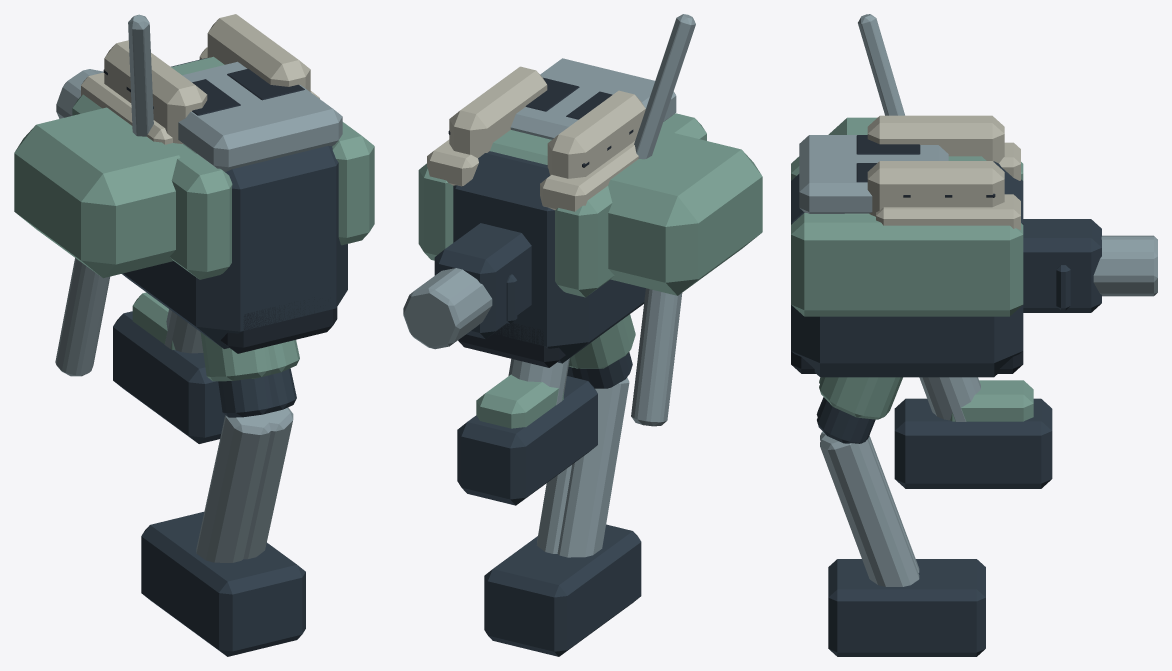
Rendered from skirmisher.glb.
The picture shows the model from 3 angles, left to right: view 1: azimuth 30°, elevation 25°; view 2: azimuth 150°, elevation 25°; view 3: azimuth 270°, elevation 25°; orthographic projection. The views are drawn at different scales.
Visible parts, largest first — view 1: L0_Chassis, L2_Hip0, L0_Turret, L0_Shin0, L2_Hip1, L0_Hip0, L0_Hip1, L0_Weapon; view 2: L0_Chassis, L2_Hip0, L0_Shin0, L0_Turret, L0_Weapon, L2_Hip1, L0_Hip0; view 3: L0_Chassis, L2_Hip1, L0_Shin0, L0_Turret, L0_Weapon, L0_Hip1, L2_Hip0.
Part boxes in pixels (x1=…): L0_Chassis: x1=14, y1=47, x2=374, y2=376; L2_Hip0: x1=141, y1=412, x2=286, y2=656; L0_Turret: x1=104, y1=14, x2=310, y2=143; L0_Shin0: x1=113, y1=292, x2=225, y2=443; L2_Hip1: x1=165, y1=407, x2=305, y2=652; L0_Hip0: x1=200, y1=332, x2=272, y2=417; L0_Hip1: x1=251, y1=340, x2=299, y2=412; L0_Weapon: x1=56, y1=69, x2=103, y2=118; L0_Chassis: x1=418, y1=58, x2=762, y2=426; L2_Hip0: x1=502, y1=377, x2=641, y2=656; L0_Shin0: x1=457, y1=358, x2=597, y2=505; L0_Turret: x1=449, y1=14, x2=695, y2=178; L0_Weapon: x1=403, y1=223, x2=531, y2=349; L2_Hip1: x1=484, y1=465, x2=571, y2=653; L0_Hip0: x1=570, y1=314, x2=635, y2=388; L0_Chassis: x1=791, y1=117, x2=1070, y2=377; L2_Hip1: x1=820, y1=435, x2=985, y2=656; L0_Shin0: x1=894, y1=377, x2=1052, y2=488; L0_Turret: x1=856, y1=14, x2=1004, y2=216; L0_Weapon: x1=1023, y1=219, x2=1157, y2=312; L0_Hip1: x1=817, y1=377, x2=902, y2=443; L2_Hip0: x1=820, y1=431, x2=985, y2=590.
Bounding box in the file's own units: 0.6748 × 1.54 × 0.885.
